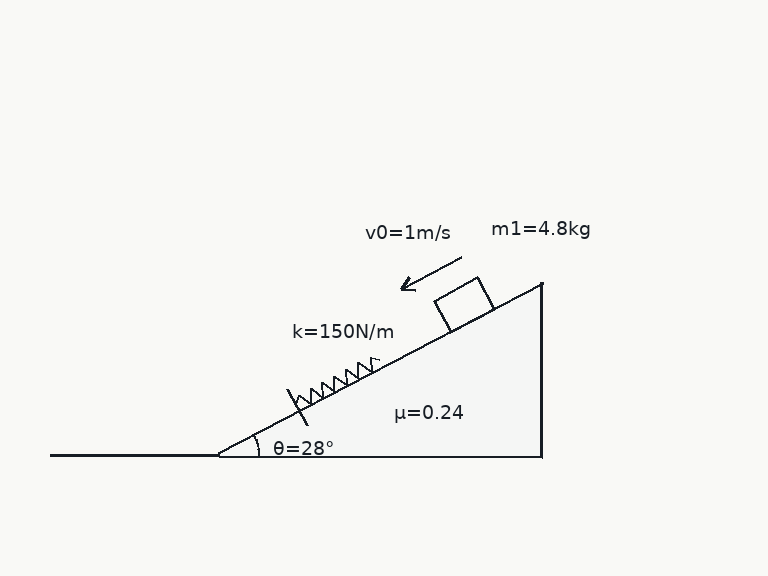block: (432, 275, 496, 334)
ramp: (217, 281, 544, 457)
spring: (294, 354, 382, 406)
